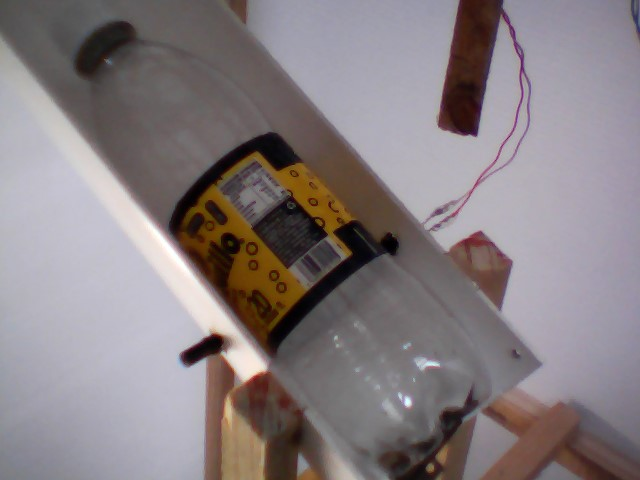plastico: (49, 5, 500, 473)
